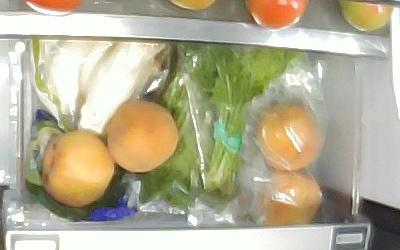peach: (42, 130, 114, 205), (105, 102, 179, 174)
peach_vinyl: (258, 103, 321, 171), (255, 169, 321, 225)
